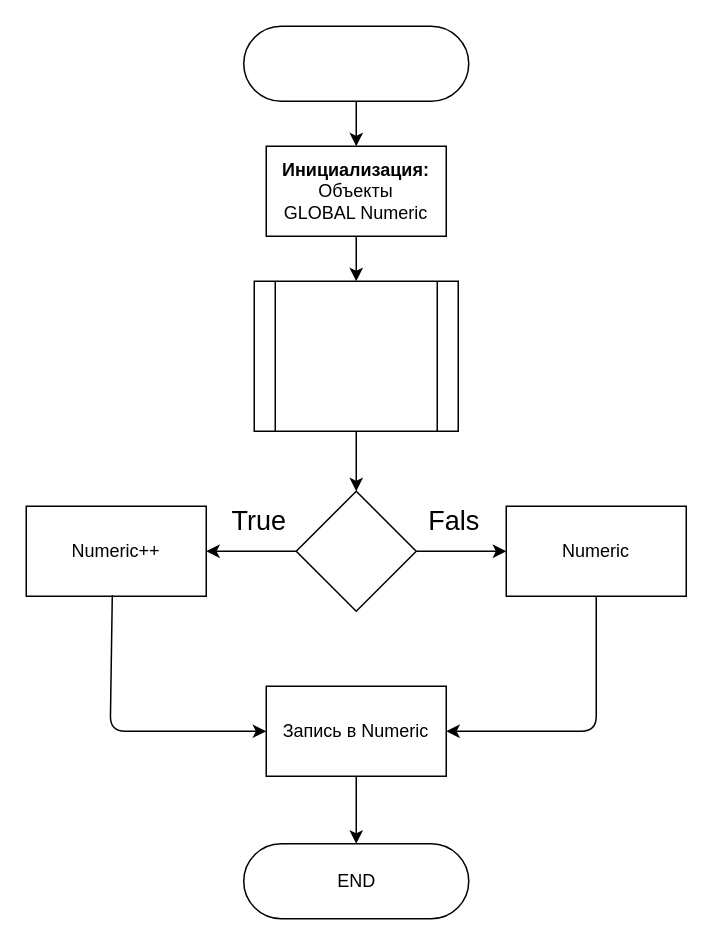
Some shapes in this 713 by 945 pixel diagram are drawn without their labels. Each missing label, with the box of its shape:
START: (242, 25, 469, 101)
T/F: (295, 490, 416, 611)
Вызов подпрограммы " Calculation chance " с параметром " Объекты.Шанс брака": (253, 280, 458, 431)
